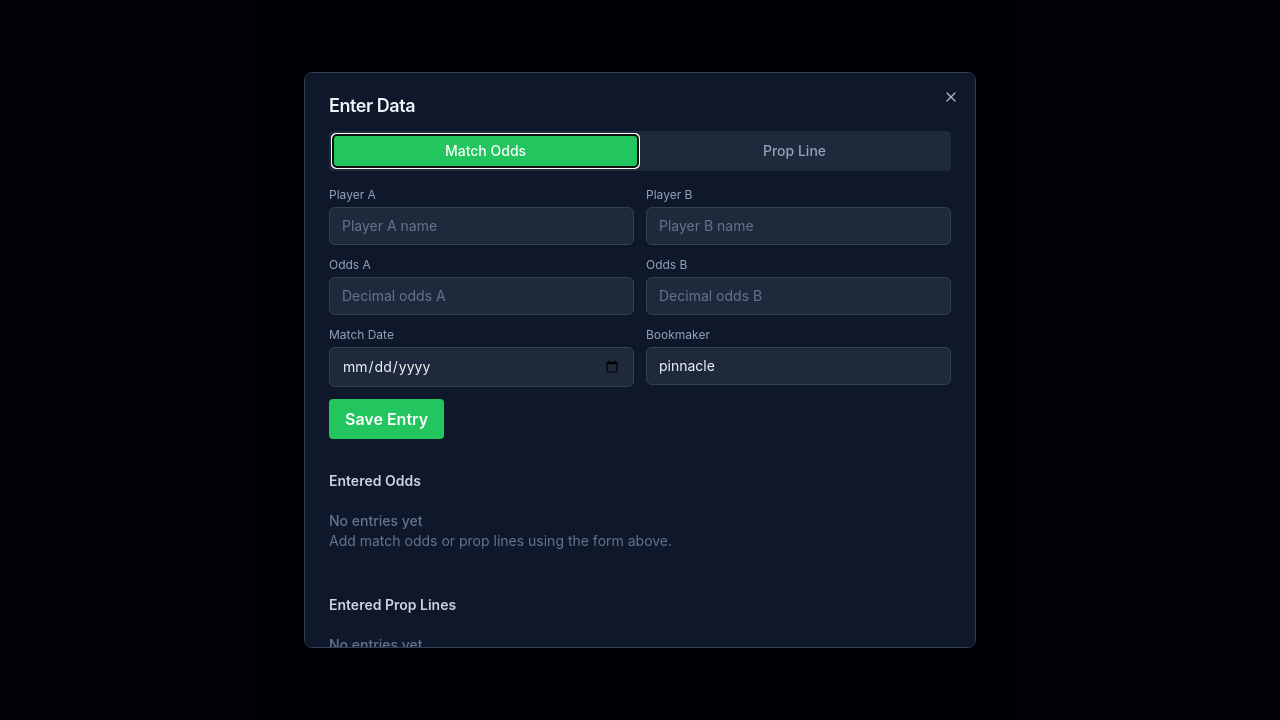
Scenario: ManualEntryModal › switching to Prop Line shows Player Name and Stat Type fields
Step 1. Click the button "Prop Line" → (794,151), box [642,135,947,167]
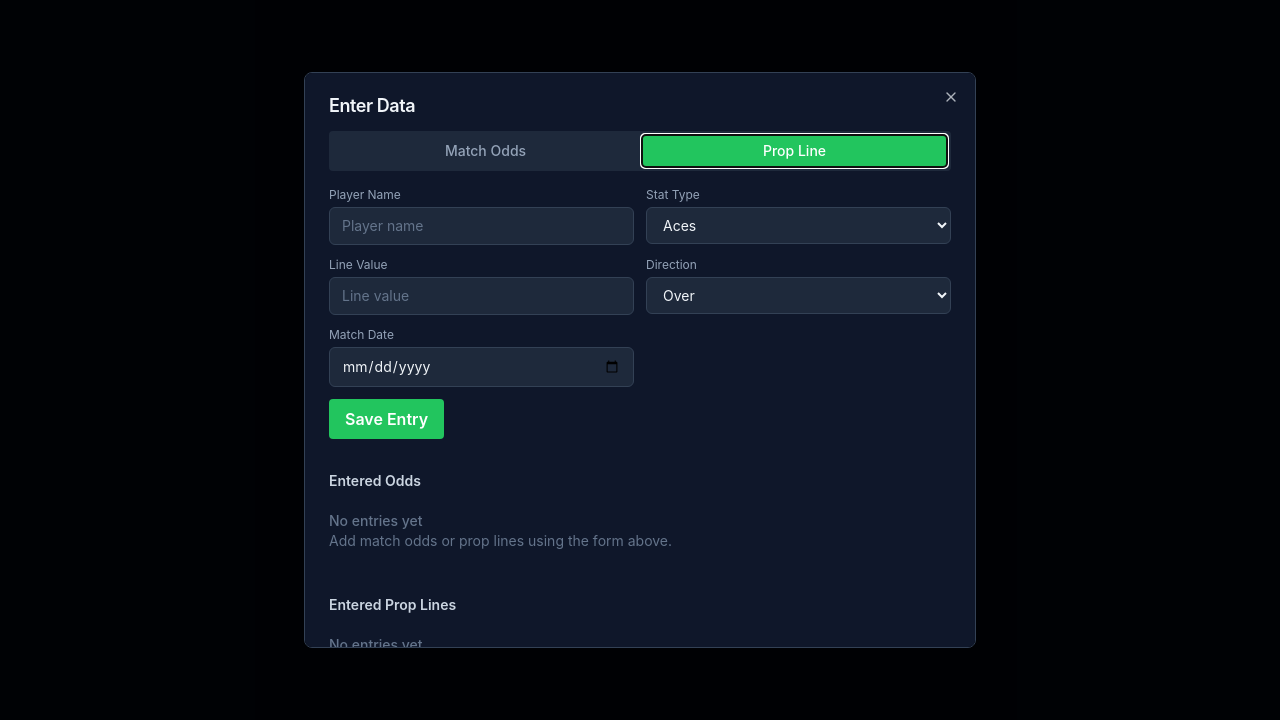
expect the field with placeholder "Player name" is shown: met, box [329,207,634,245]
expect the dropdown showing "Aces" below "Stat Type" is shown: met, box [646,207,951,244]
